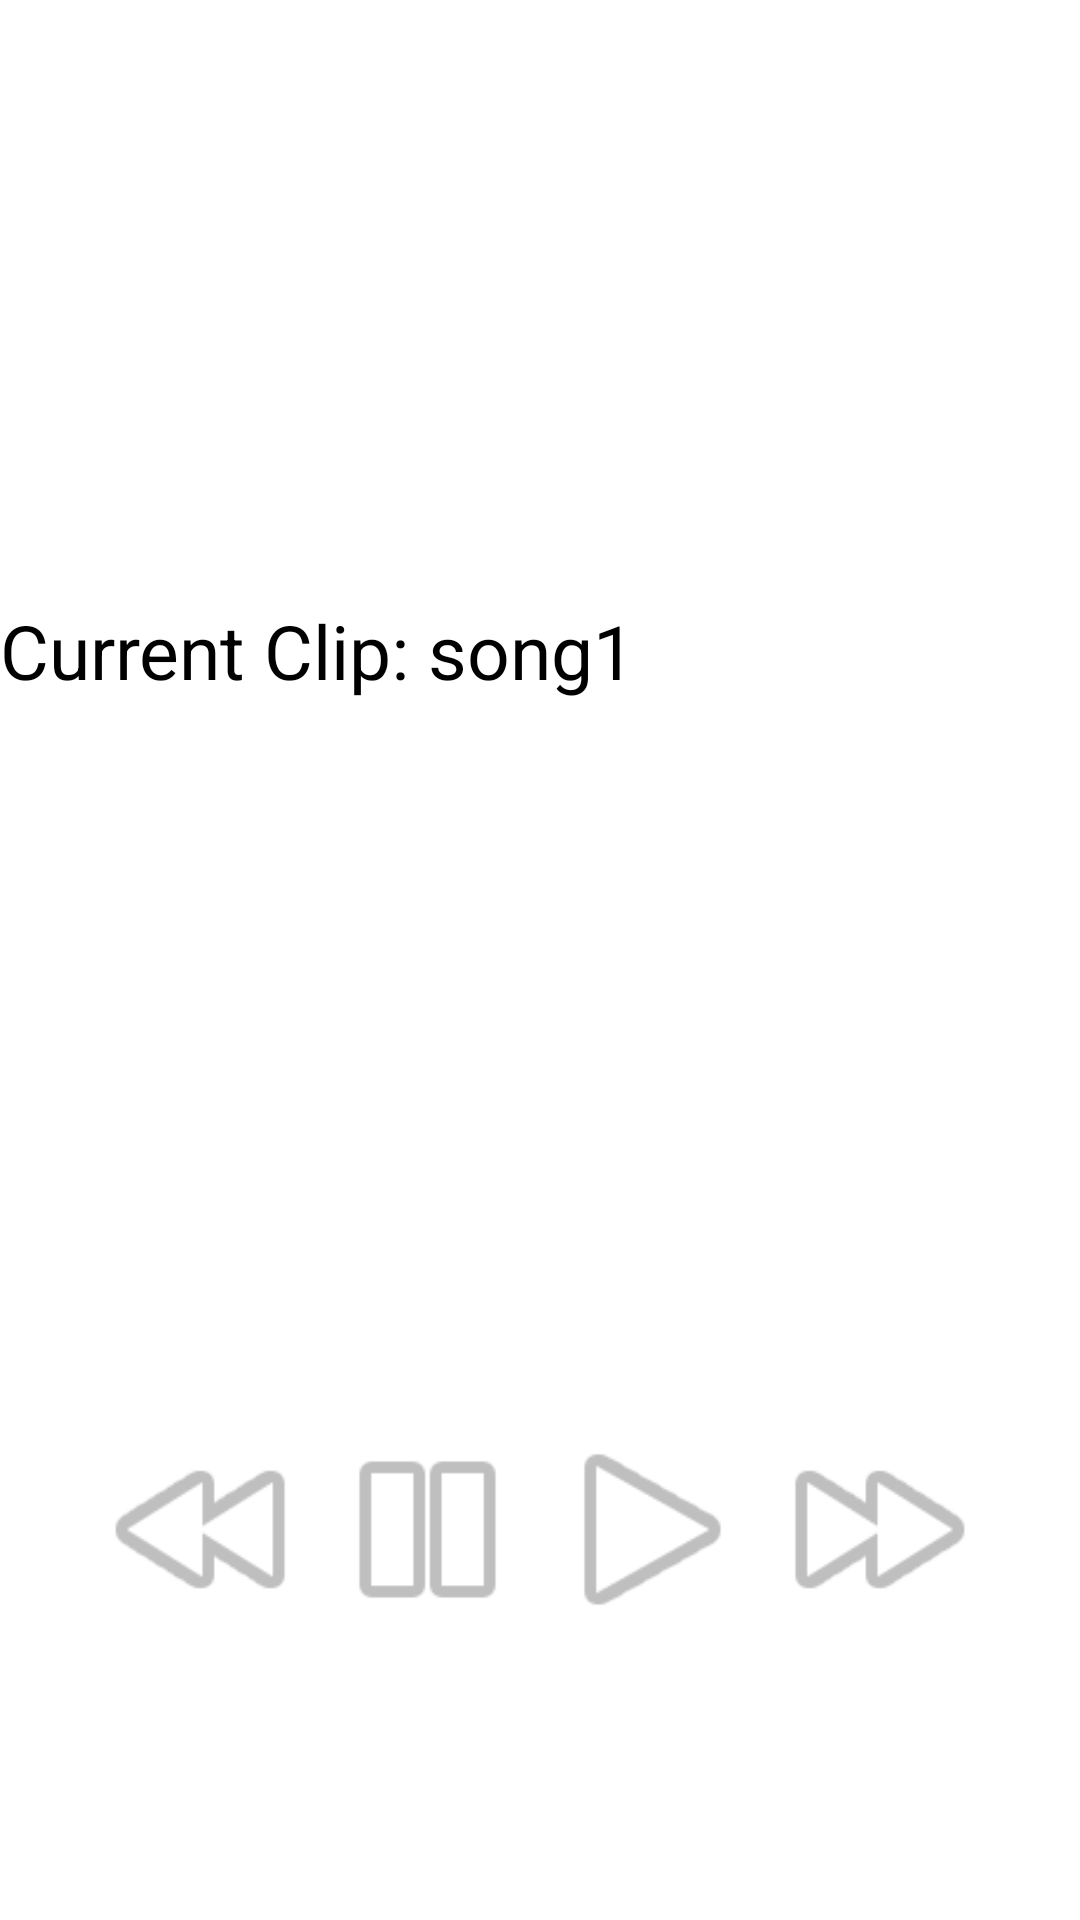

Named icons in this screenshot (1080×1920) and their centers, (x,y):
pause: (427,1529)
play: (652,1529)
rew: (200,1529)
